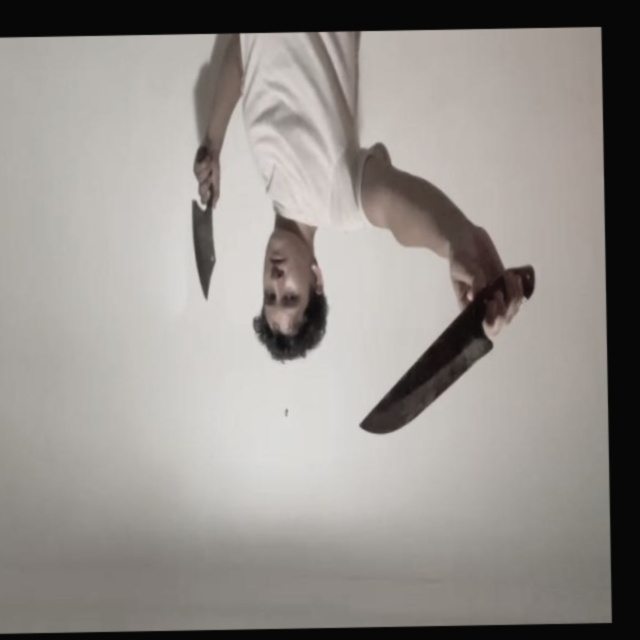Sharp-Object: (358, 327, 495, 437), (190, 202, 220, 303)
